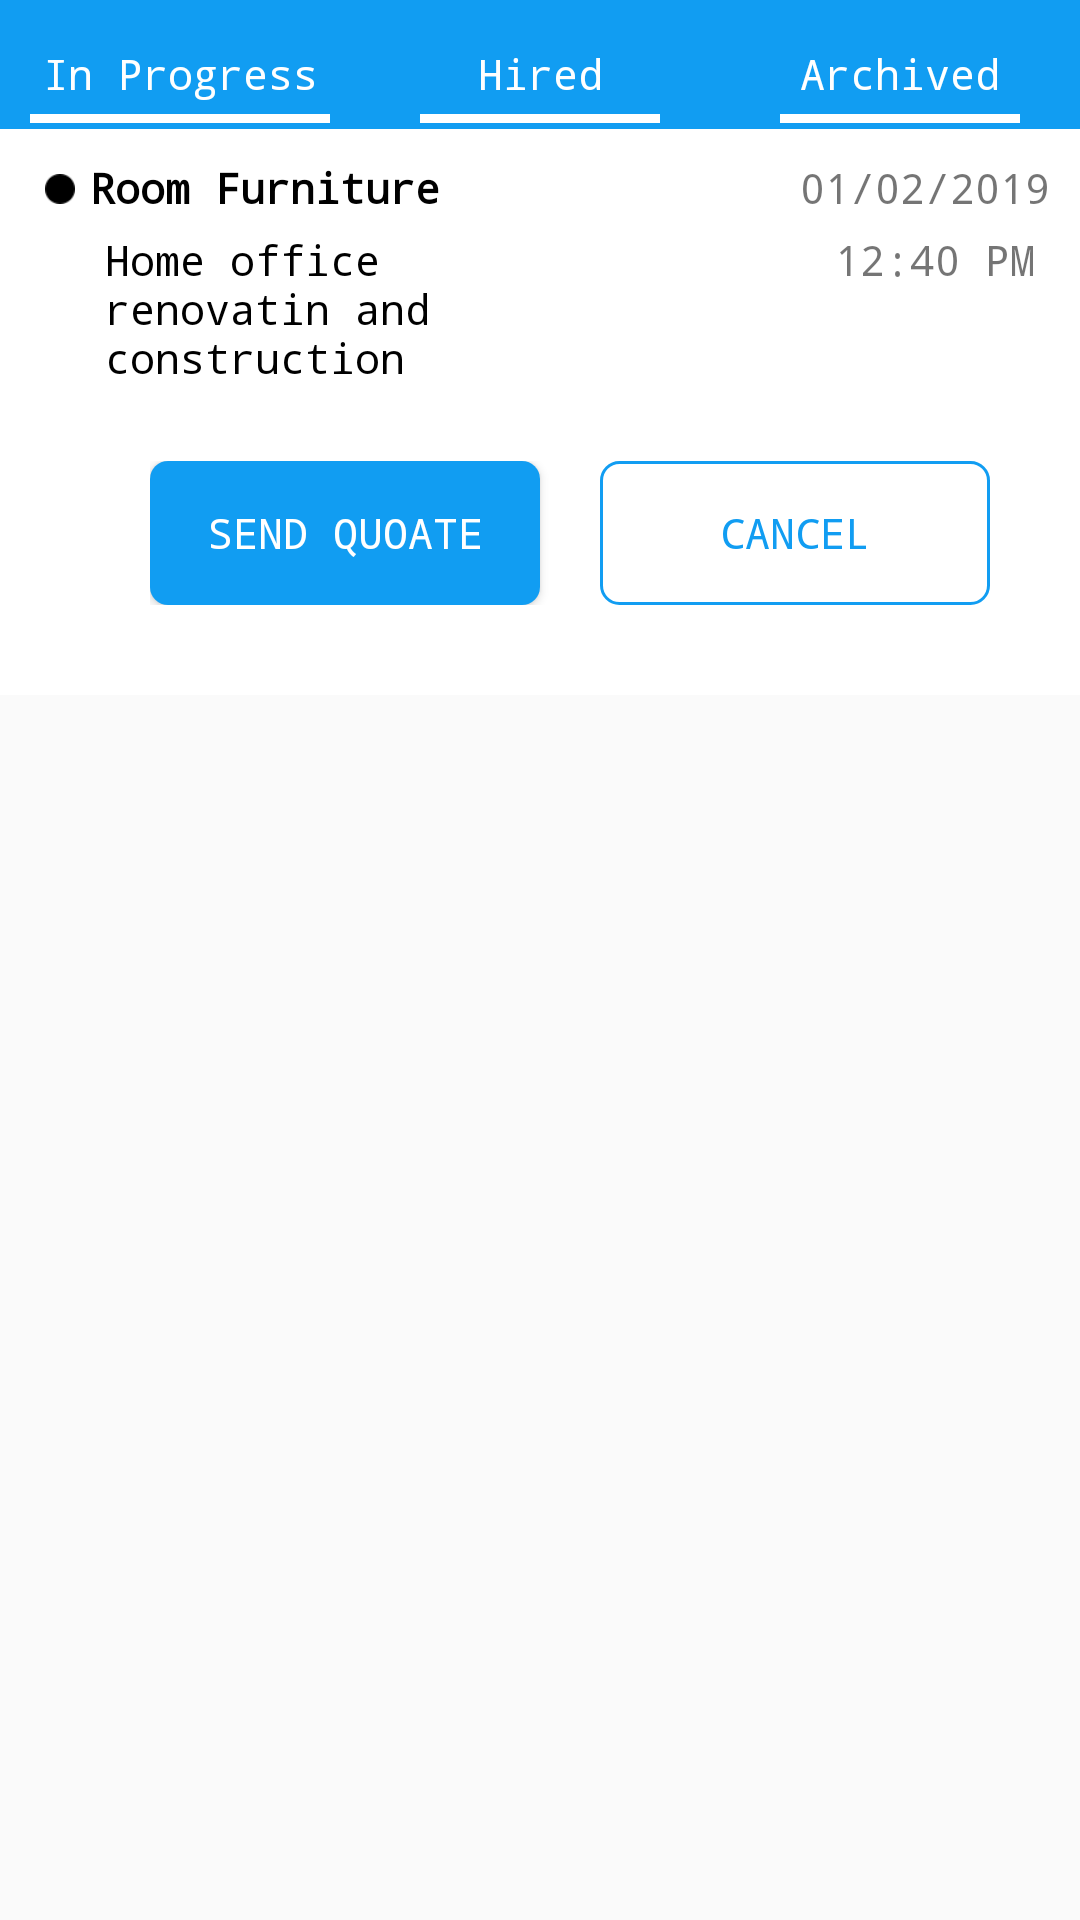

Icons on this 1080px×1920px Android screen, each with the point to tap as (x=x, y=y):
bullet: (x=60, y=189)
